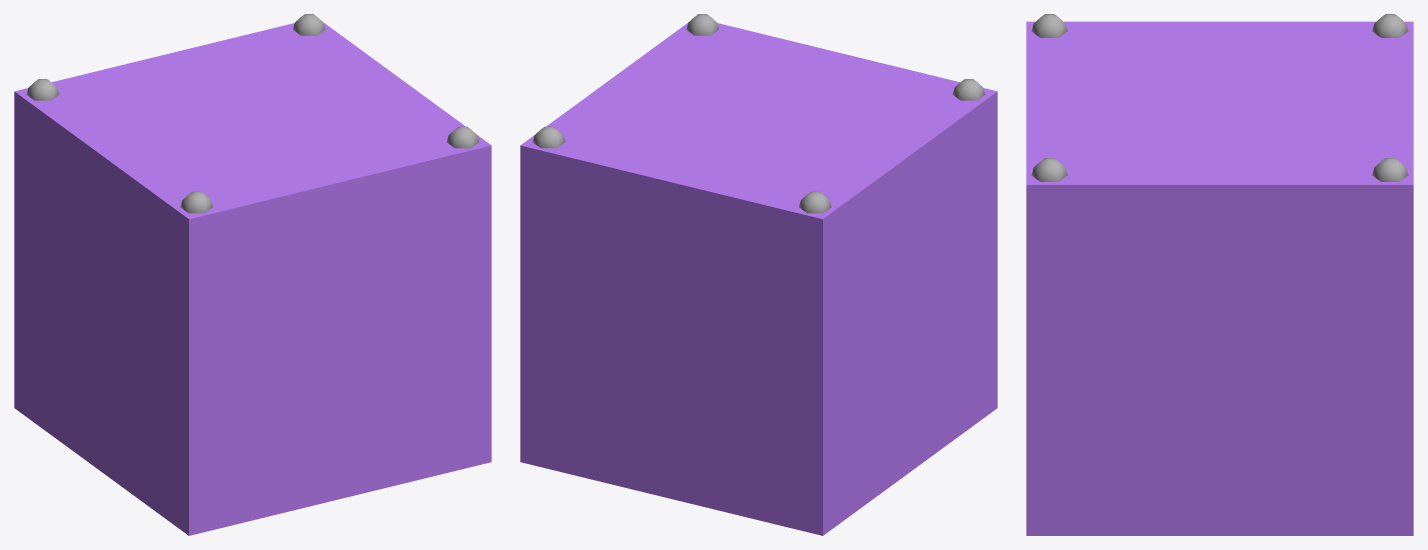
Rendered from rainbow_purple.fbx.
3 renders of one model, left to right at view 1: azimuth 30°, elevation 25°; view 2: azimuth 150°, elevation 25°; view 3: azimuth 270°, elevation 25°, orthographic. The views are drawn at different scales.
Visible parts, largest first — view 1: Cube; view 2: Cube; view 3: Cube.
Boxes of the visible parts, x1=… form: Cube: x1=14, y1=14, x2=491, y2=535; Cube: x1=520, y1=14, x2=997, y2=535; Cube: x1=1026, y1=14, x2=1413, y2=535.
Size of the model in its own units: 1 by 1.05 by 1.
